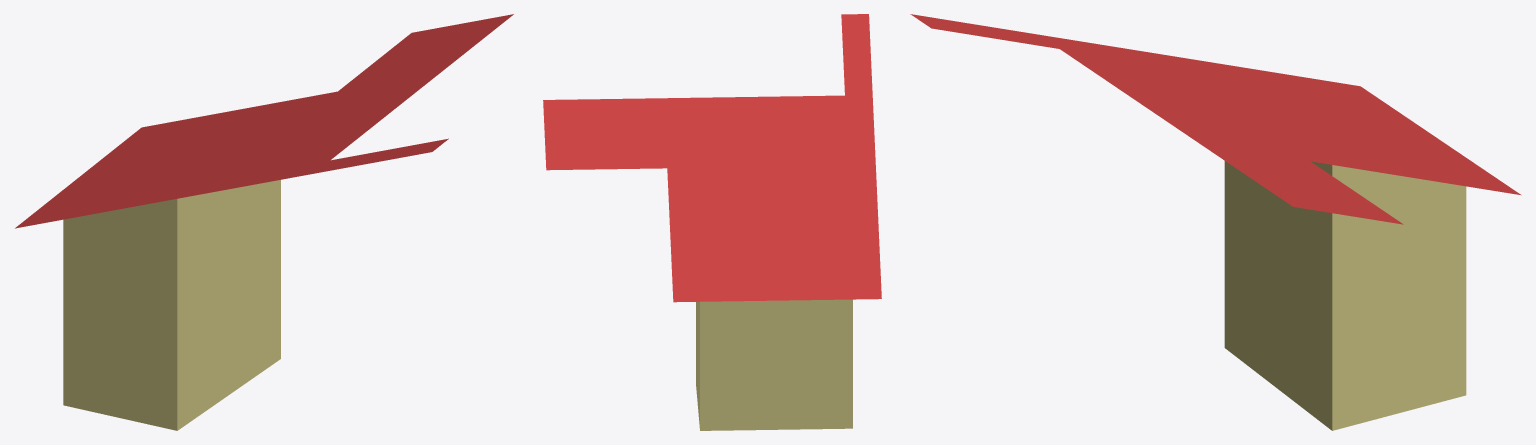
The picture shows the model from 3 angles, left to right: view 1: azimuth 30°, elevation 25°; view 2: azimuth 150°, elevation 25°; view 3: azimuth 270°, elevation 25°; orthographic projection. The views are drawn at different scales.
Bounding box in the file's own units: 15.05 × 15.11 × 10.82.
